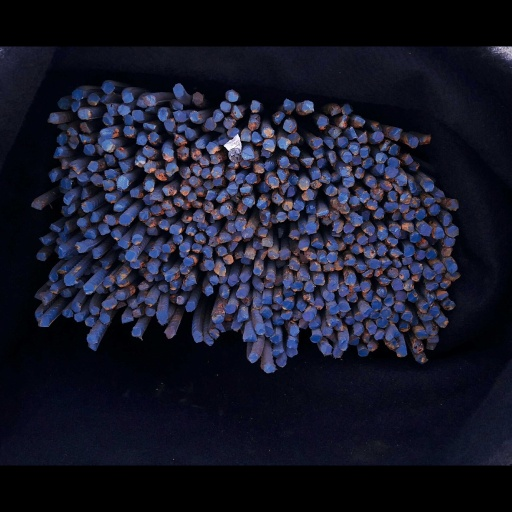dipstick: (283, 119, 297, 133), (57, 97, 71, 110), (142, 146, 156, 159), (162, 147, 174, 162), (165, 163, 178, 176), (310, 137, 323, 150), (389, 128, 402, 141), (338, 164, 351, 177), (370, 188, 383, 201), (118, 161, 132, 173), (164, 118, 176, 132), (317, 115, 329, 129), (101, 82, 114, 94), (86, 93, 99, 105), (102, 112, 114, 125), (102, 140, 115, 152), (123, 125, 136, 137), (173, 110, 186, 122), (185, 127, 197, 140), (204, 117, 216, 130), (232, 105, 244, 118), (206, 142, 219, 154), (272, 112, 285, 124), (283, 98, 295, 111), (302, 100, 314, 113), (330, 319, 343, 331), (363, 246, 376, 258), (385, 166, 398, 178), (101, 299, 115, 310), (173, 83, 184, 97), (157, 107, 168, 121), (217, 232, 231, 243), (384, 201, 398, 212), (162, 186, 177, 196), (339, 114, 349, 129), (79, 121, 91, 133), (121, 90, 133, 102), (103, 154, 115, 166), (117, 177, 129, 189), (143, 160, 155, 172), (190, 148, 202, 160), (320, 343, 332, 355), (327, 280, 339, 292), (245, 172, 257, 184), (391, 278, 403, 290), (432, 227, 444, 239), (71, 89, 84, 100), (78, 108, 91, 119), (117, 105, 130, 116), (80, 201, 93, 212), (40, 292, 51, 305), (125, 251, 138, 262), (192, 92, 203, 105), (174, 135, 187, 146), (212, 109, 223, 122), (225, 90, 238, 101), (169, 224, 182, 235), (219, 285, 230, 298), (183, 275, 196, 286), (262, 362, 275, 373), (263, 139, 274, 152), (268, 175, 279, 188), (344, 255, 357, 266), (324, 136, 335, 149), (389, 225, 400, 238), (242, 332, 256, 342), (56, 133, 67, 145), (83, 144, 95, 155), (115, 147, 126, 159), (69, 162, 80, 174), (98, 224, 110, 235), (90, 174, 102, 185), (102, 179, 114, 190), (134, 156, 146, 167), (148, 132, 159, 144), (136, 133, 147, 145), (132, 109, 144, 120), (143, 95, 155, 106), (235, 219, 246, 231), (211, 166, 222, 178), (226, 184, 237, 196), (225, 168, 236, 180), (242, 226, 253, 238), (313, 275, 325, 286), (242, 148, 254, 159), (247, 119, 259, 130), (278, 138, 290, 149), (278, 156, 289, 168), (293, 199, 304, 211), (393, 301, 405, 312), (403, 279, 414, 291), (410, 263, 422, 274), (332, 220, 343, 232), (329, 104, 341, 115), (346, 127, 357, 139), (389, 144, 400, 156), (387, 157, 398, 169), (375, 152, 387, 163), (361, 158, 373, 169), (376, 244, 388, 255), (421, 225, 432, 237), (447, 199, 458, 211), (426, 248, 438, 259), (434, 263, 446, 274), (434, 190, 445, 202), (100, 128, 113, 138), (119, 214, 132, 224), (241, 128, 251, 141), (242, 197, 255, 207), (261, 128, 274, 138), (301, 190, 314, 200), (350, 243, 363, 253), (61, 178, 72, 189), (87, 161, 98, 172), (63, 194, 74, 205), (64, 274, 75, 285), (83, 283, 94, 294), (99, 313, 110, 324), (86, 333, 97, 344), (101, 258, 112, 269), (90, 211, 101, 222), (143, 180, 154, 191), (122, 114, 133, 125), (189, 110, 200, 121), (161, 199, 172, 210), (180, 185, 191, 196), (203, 201, 214, 212), (201, 168, 212, 179), (309, 318, 320, 329), (279, 249, 290, 260), (251, 132, 262, 143), (305, 223, 316, 234), (298, 240, 309, 251), (371, 300, 382, 311), (376, 287, 387, 298), (395, 291, 406, 302), (407, 291, 418, 302), (387, 267, 398, 278), (354, 116, 365, 127), (337, 136, 348, 147), (372, 131, 383, 142), (366, 177, 377, 188), (381, 180, 392, 191), (395, 175, 406, 186), (387, 190, 398, 201), (373, 208, 384, 219), (415, 209, 426, 220), (447, 226, 458, 237), (437, 317, 448, 328), (75, 242, 87, 252), (84, 229, 96, 239), (104, 215, 116, 225), (131, 234, 143, 244), (147, 263, 159, 273), (223, 118, 235, 128), (227, 128, 239, 138), (179, 264, 191, 274), (224, 304, 236, 314), (203, 246, 213, 258), (211, 209, 223, 219), (143, 121, 155, 131), (255, 322, 265, 334), (302, 311, 314, 321), (255, 227, 267, 237), (250, 100, 260, 112), (299, 178, 309, 190), (416, 329, 428, 339), (363, 225, 375, 235), (377, 228, 387, 240), (351, 216, 363, 226), (359, 191, 369, 203), (403, 246, 415, 256), (424, 270, 436, 280), (402, 223, 414, 233), (405, 209, 415, 221), (399, 194, 411, 204), (430, 203, 440, 215), (441, 246, 453, 256), (443, 300, 455, 310), (239, 186, 252, 195), (297, 272, 310, 281), (369, 259, 382, 268), (358, 131, 367, 144), (49, 113, 59, 124), (31, 200, 42, 210), (38, 317, 49, 327), (71, 301, 81, 312), (103, 276, 113, 287), (138, 211, 149, 221), (151, 204, 161, 215), (143, 195, 154, 205), (220, 102, 231, 112), (158, 220, 169, 230), (172, 234, 183, 244), (179, 242, 190, 252), (165, 327, 175, 338), (209, 329, 220, 339), (203, 285, 213, 296), (230, 321, 241, 331), (204, 260, 215, 270), (191, 243, 202, 253), (165, 207, 176, 217), (193, 212, 204, 222), (194, 234, 205, 244), (215, 266, 226, 276), (228, 275, 238, 286), (236, 288, 247, 298), (237, 311, 248, 321), (188, 176, 199, 186), (270, 334, 281, 344), (286, 347, 297, 357), (296, 301, 307, 311), (304, 294, 314, 305), (323, 291, 334, 301), (257, 199, 268, 209), (253, 163, 264, 173), (290, 146, 300, 157), (288, 174, 299, 184), (288, 210, 299, 220), (326, 252, 337, 262), (313, 299, 324, 309), (367, 341, 378, 351), (348, 335, 359, 345), (354, 311, 364, 322), (377, 318, 388, 328), (360, 281, 370, 292), (413, 343, 424, 353), (399, 269, 409, 280), (343, 234, 354, 244), (343, 223, 354, 233), (343, 177, 354, 187), (342, 151, 352, 162), (313, 148, 324, 158), (408, 137, 418, 148), (402, 154, 413, 164), (354, 167, 364, 178), (349, 196, 360, 206), (367, 199, 378, 209), (410, 232, 421, 242), (423, 181, 434, 191), (444, 237, 455, 247), (76, 172, 88, 181), (122, 314, 134, 323), (76, 218, 88, 227), (265, 325, 274, 337), (281, 300, 293, 309), (291, 282, 303, 291), (309, 262, 321, 271), (310, 180, 322, 189), (317, 209, 329, 218), (311, 240, 323, 249), (326, 241, 338, 250), (304, 251, 316, 260), (322, 263, 334, 272), (398, 322, 410, 331), (419, 301, 428, 313), (443, 214, 452, 226), (439, 280, 451, 289), (211, 315, 224, 323), (53, 147, 63, 157), (61, 207, 71, 217), (131, 327, 141, 337), (111, 230, 121, 240), (118, 239, 128, 249), (185, 302, 195, 312), (186, 225, 196, 235), (187, 192, 197, 202), (206, 226, 216, 236), (223, 254, 233, 264), (226, 223, 236, 233), (248, 353, 258, 363), (268, 249, 278, 259), (289, 261, 299, 271), (304, 282, 314, 292), (338, 287, 348, 297), (264, 161, 274, 171), (282, 201, 292, 211), (353, 325, 363, 335), (374, 330, 384, 340), (389, 313, 399, 323), (397, 347, 407, 357), (357, 235, 367, 245), (338, 193, 348, 203), (415, 250, 425, 260), (392, 211, 402, 221), (410, 197, 420, 207), (421, 134, 431, 144), (430, 307, 440, 317), (447, 263, 457, 273), (66, 127, 77, 136), (49, 171, 58, 182), (58, 247, 67, 258), (105, 193, 116, 202), (146, 226, 157, 235), (183, 257, 194, 266), (164, 272, 175, 281), (193, 331, 202, 342), (181, 214, 192, 223), (220, 206, 231, 215), (192, 165, 201, 176), (195, 139, 206, 148), (275, 358, 286, 367), (261, 309, 272, 318), (253, 298, 262, 309), (281, 311, 292, 320), (272, 316, 283, 325), (244, 250, 255, 259), (338, 302, 349, 311), (310, 171, 321, 180), (276, 212, 287, 221), (289, 230, 300, 239), (346, 293, 357, 302), (345, 276, 356, 285), (401, 312, 412, 321), (326, 186, 337, 195), (319, 175, 330, 184), (402, 256, 413, 265), (424, 197, 435, 206), (436, 291, 447, 300), (427, 326, 438, 335), (156, 311, 168, 319), (357, 349, 369, 357), (390, 249, 402, 257), (426, 283, 438, 291), (115, 291, 125, 300), (145, 307, 155, 316), (173, 197, 183, 206), (217, 247, 227, 256), (239, 273, 249, 282), (205, 190, 215, 199), (203, 180, 213, 189), (235, 174, 245, 183), (253, 266, 263, 275), (333, 348, 342, 358), (329, 305, 339, 314), (273, 194, 283, 203), (380, 309, 390, 318), (334, 260, 343, 270), (384, 297, 394, 306), (359, 147, 368, 157), (387, 237, 397, 246), (49, 224, 60, 232), (36, 253, 47, 261), (62, 309, 73, 317), (60, 289, 71, 297), (144, 297, 155, 305), (130, 260, 141, 268), (113, 203, 124, 211), (216, 191, 224, 202), (286, 340, 297, 348), (310, 334, 321, 342), (261, 239, 272, 247), (252, 241, 263, 249), (305, 205, 316, 213), (39, 237, 51, 244), (302, 158, 314, 165), (49, 273, 58, 282), (74, 313, 83, 322), (90, 306, 99, 315), (92, 249, 101, 258), (273, 296, 282, 305), (266, 273, 275, 282), (254, 282, 263, 291), (283, 279, 292, 288), (339, 341, 348, 350), (318, 254, 327, 263), (368, 325, 377, 334), (392, 258, 401, 267), (400, 203, 409, 212), (50, 284, 58, 294), (149, 249, 159, 257), (129, 189, 139, 197), (210, 275, 218, 285), (290, 326, 298, 336), (322, 327, 332, 335), (287, 186, 295, 196), (344, 316, 354, 324), (380, 277, 390, 285), (85, 318, 94, 326), (159, 284, 168, 292), (272, 350, 284, 356), (263, 296, 272, 304), (133, 309, 141, 317), (162, 244, 170, 252), (176, 296, 184, 304), (205, 338, 213, 345)
